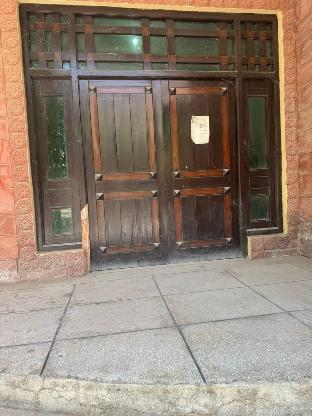door: (15, 0, 292, 269)
